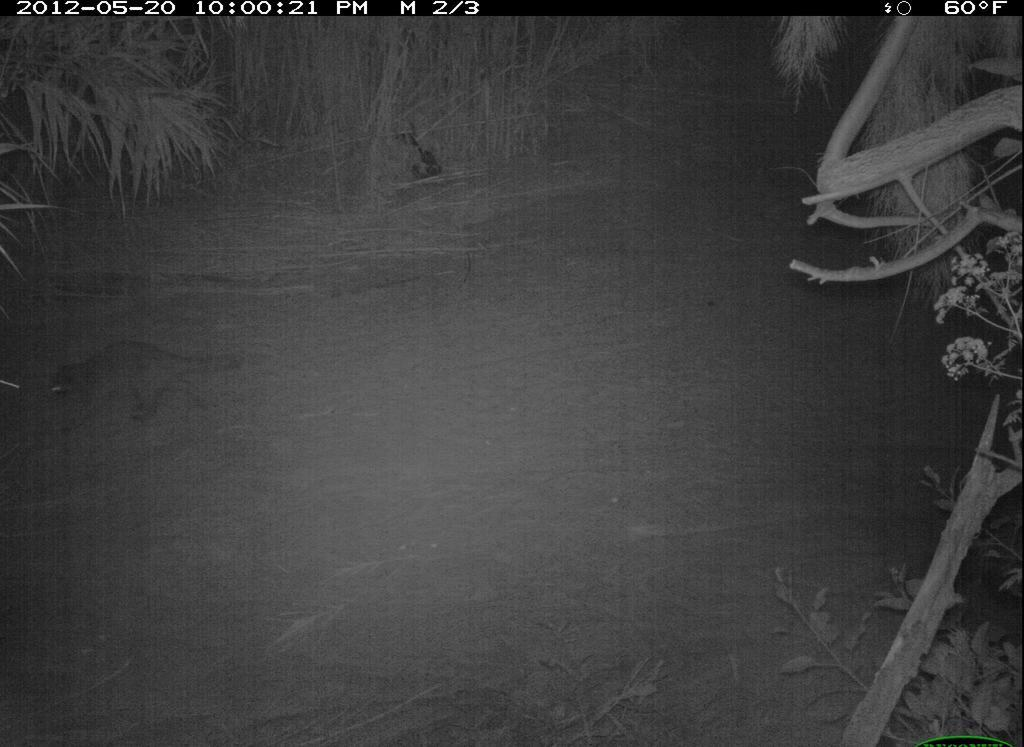raccoon: (50, 332, 246, 438)
